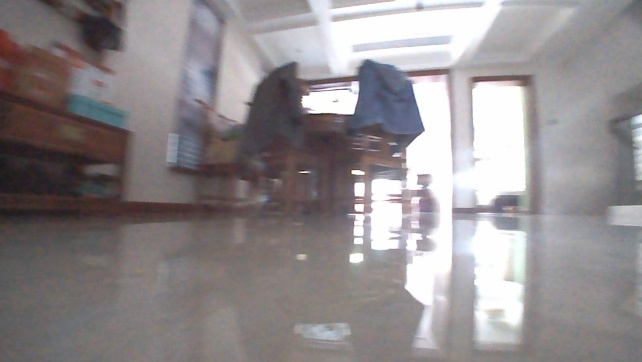dining_table: (189, 55, 424, 218)
